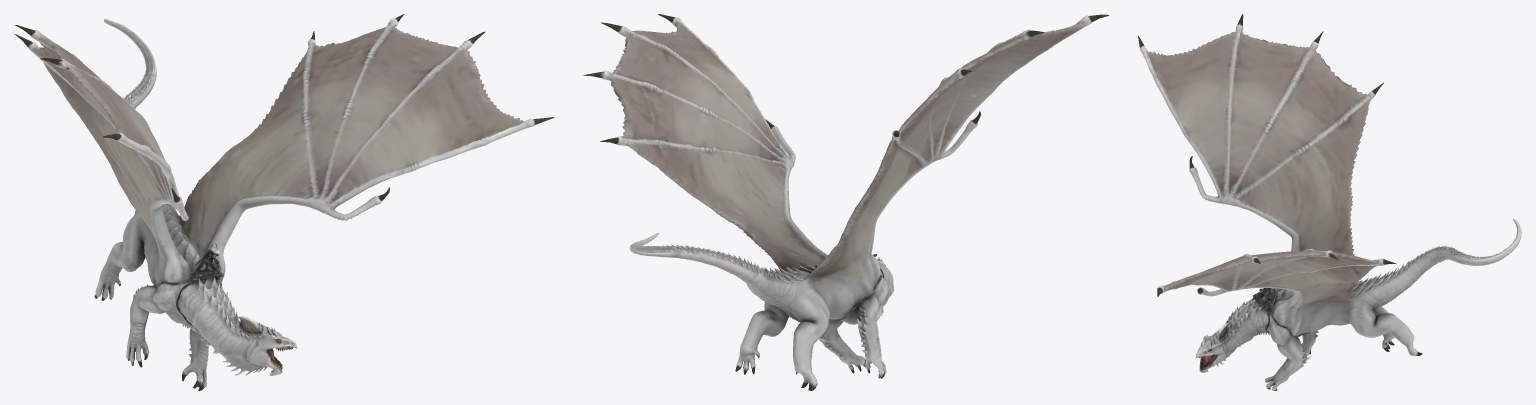
Rendered from MZ4250 - Arveiaturace_alt.glb.
The picture shows the model from 3 angles, left to right: view 1: azimuth 30°, elevation 25°; view 2: azimuth 150°, elevation 25°; view 3: azimuth 270°, elevation 25°; orthographic projection. The views are drawn at different scales.
Parts seen in each view (by area): view 1: Arveiaturace.001; view 2: Arveiaturace.001; view 3: Arveiaturace.001.
Boxes of the visible parts, left/top/right/bottom form: Arveiaturace.001: left=14, top=14, right=554, bottom=390; Arveiaturace.001: left=583, top=14, right=1109, bottom=390; Arveiaturace.001: left=1138, top=14, right=1521, bottom=390.
Bounding box in the file's own units: 823 × 657 × 743.
Materials: 1 (1 with a texture image).
